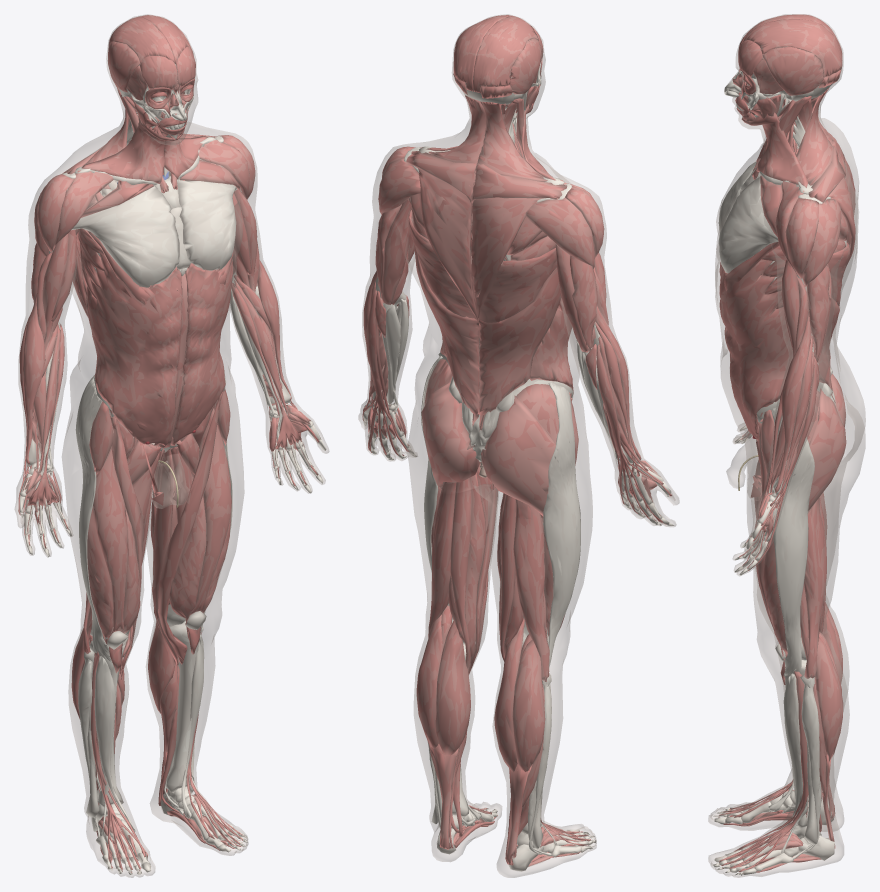
File: anatomy_twin.glb
3 views of the same model, side by side, from view 1: azimuth 30°, elevation 25°; view 2: azimuth 150°, elevation 25°; view 3: azimuth 270°, elevation 25° (orthographic). The views are drawn at different scales.
Visible parts, largest first — view 1: Skin, Muscles, Skeleton; view 2: Skin, Muscles, Skeleton; view 3: Skin, Muscles, Skeleton.
Boxes of the visible parts, x1=… form: Skin: x1=14, y1=14, x2=329, y2=877; Muscles: x1=18, y1=15, x2=319, y2=872; Skeleton: x1=19, y1=64, x2=326, y2=874; Skin: x1=358, y1=14, x2=679, y2=877; Muscles: x1=362, y1=15, x2=671, y2=866; Skeleton: x1=363, y1=58, x2=674, y2=871; Skin: x1=708, y1=14, x2=865, y2=877; Muscles: x1=718, y1=14, x2=855, y2=873; Skeleton: x1=713, y1=58, x2=846, y2=875.
Bounding box in the file's own units: 0.6584 × 1.66 × 0.2856.
